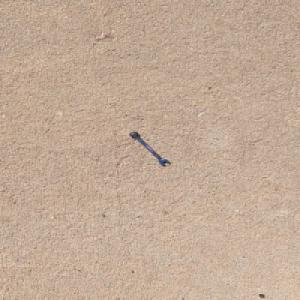Wrench: (127, 131, 170, 165)
